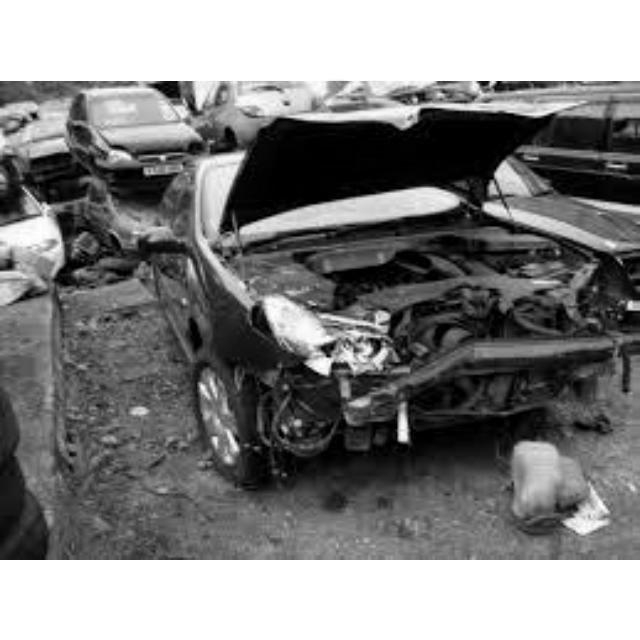Headlight-damage: (235, 295, 365, 369)
front-bumper-dent: (307, 332, 578, 416)
